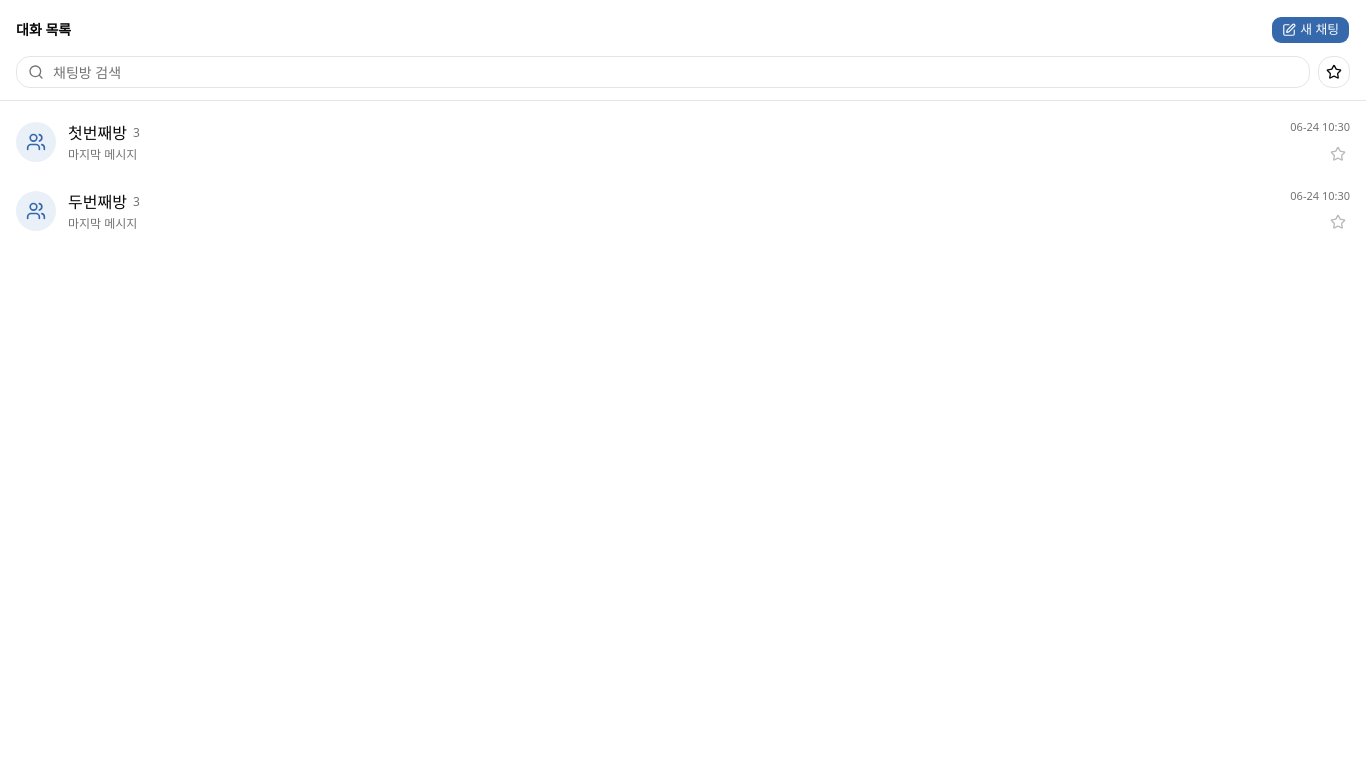
Test: ChatRoomListPanel › 우클릭 컨텍스트 메뉴의 "채팅방 이름변경" 선택 시 해당 roomId의 현재 표시명이 프리필된 ChatRoomNameUpdateDialog가 열린다
Right-click the button "두번째방 3 마지막 메시지" at (36, 211), box x1=16 y1=190 x2=1278 y2=232
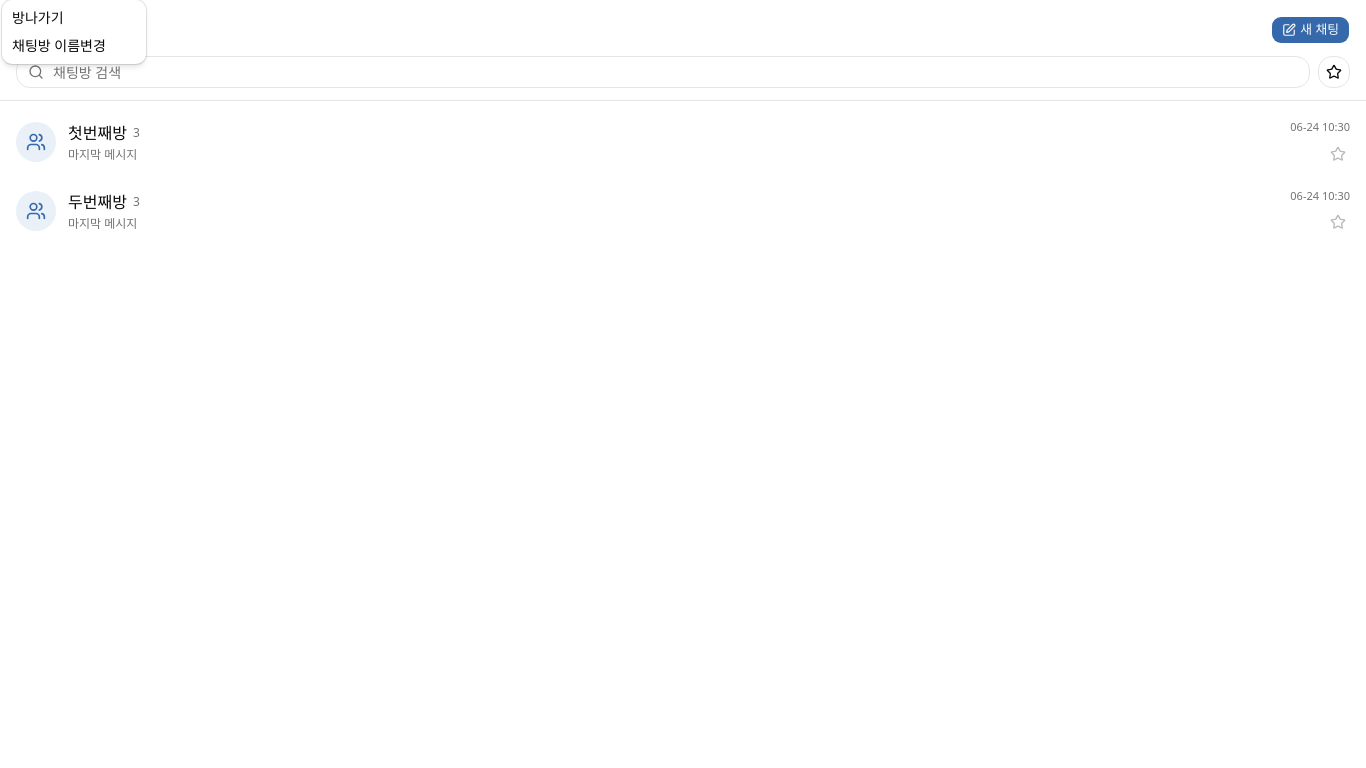
Click the menu item "채팅방 이름변경" at (59, 46), box x1=12 y1=36 x2=106 y2=55
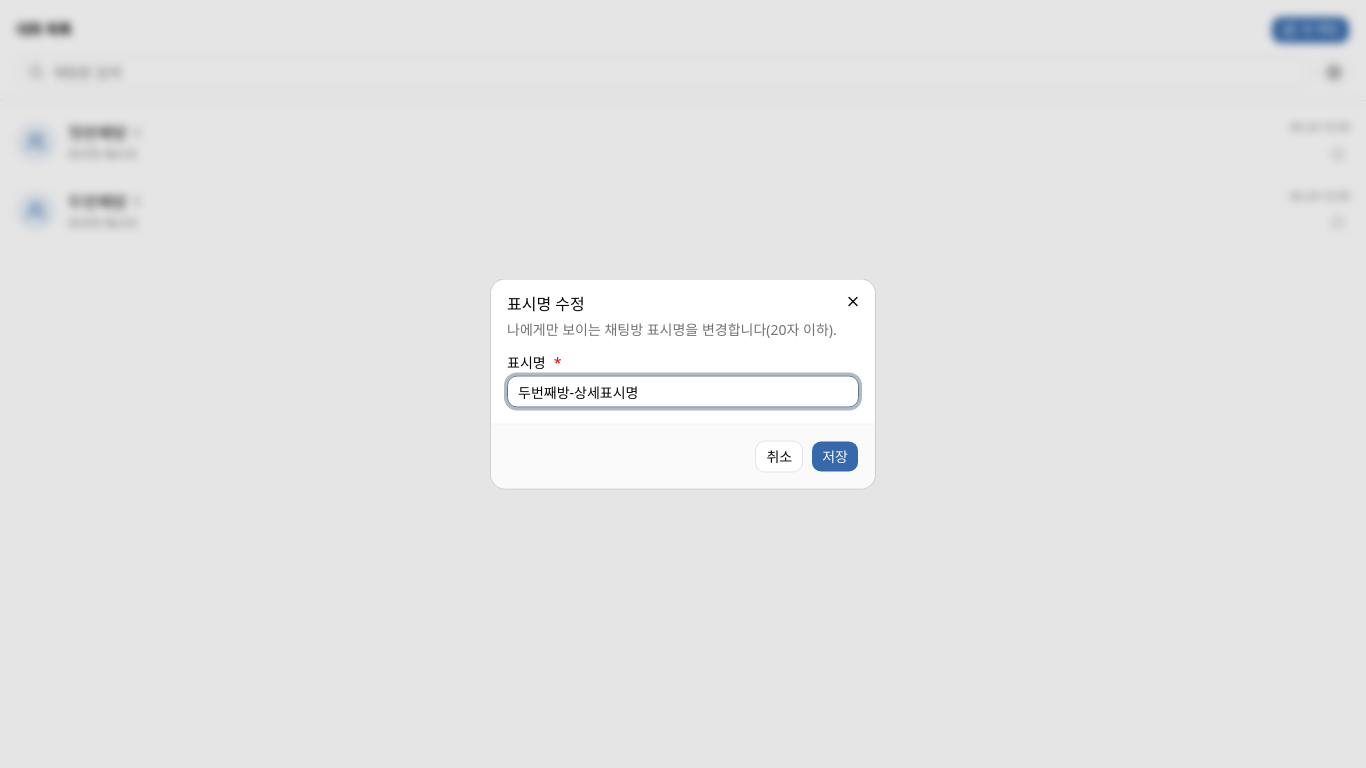
Check: the heading "표시명 수정" is shown, box x1=507 y1=292 x2=585 y2=314
Check: the field labelled "표시명 *" holds "두번째방-상세표시명", box x1=507 y1=376 x2=859 y2=408
